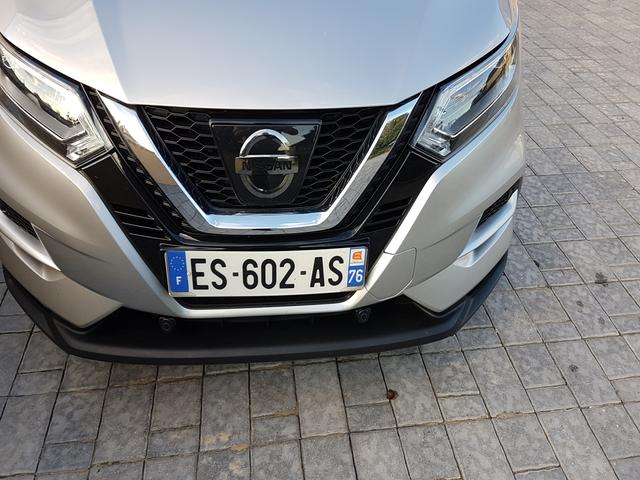Quashquai: (145, 216, 387, 319)
